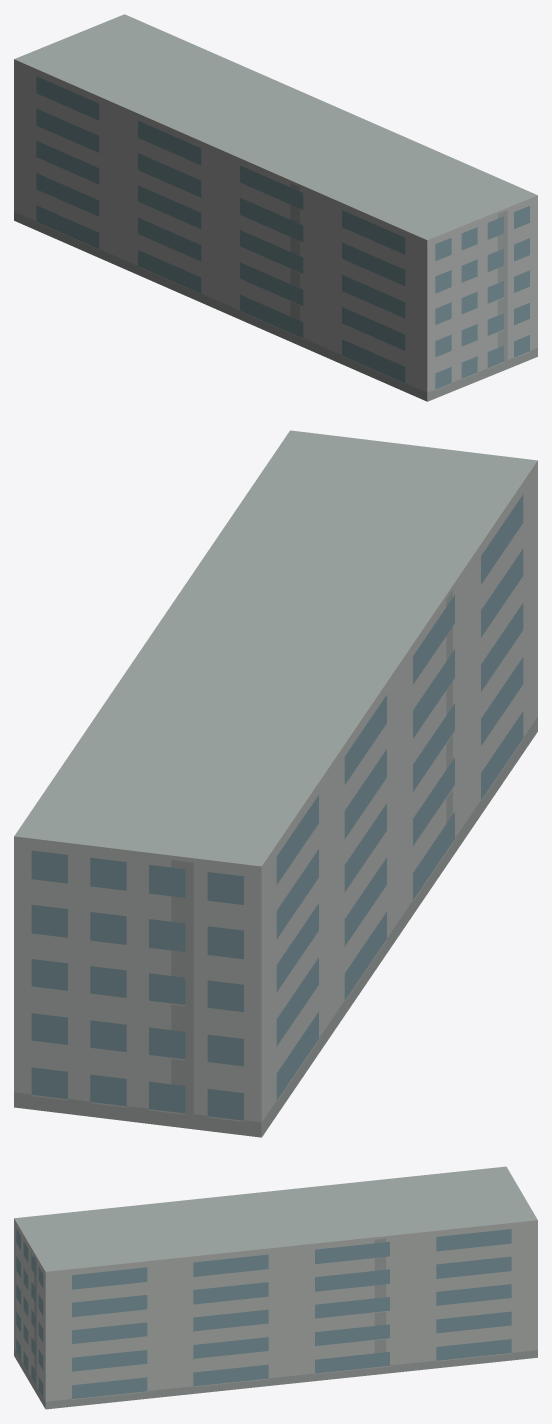
The model's file is residential-3a0e8463-0fde-48c2-8dcb-2be0343eb7aa.glb.
3 renders of one model, top to bottom at view 1: azimuth 30°, elevation 25°; view 2: azimuth 150°, elevation 25°; view 3: azimuth 270°, elevation 25°, orthographic. The views are drawn at different scales.
Visible parts, largest first — view 1: residential-3a0e8463-0fde-48c2-8dcb-2be0343eb7aa.tmp; view 2: residential-3a0e8463-0fde-48c2-8dcb-2be0343eb7aa.tmp; view 3: residential-3a0e8463-0fde-48c2-8dcb-2be0343eb7aa.tmp.
Part boxes in pixels (box(x1,y1,x2,y2)): residential-3a0e8463-0fde-48c2-8dcb-2be0343eb7aa.tmp: box(14, 14, 537, 401); residential-3a0e8463-0fde-48c2-8dcb-2be0343eb7aa.tmp: box(14, 430, 537, 1137); residential-3a0e8463-0fde-48c2-8dcb-2be0343eb7aa.tmp: box(14, 1166, 537, 1409).
Size of the model in its own units: 25.07 by 15.25 by 52.64.
